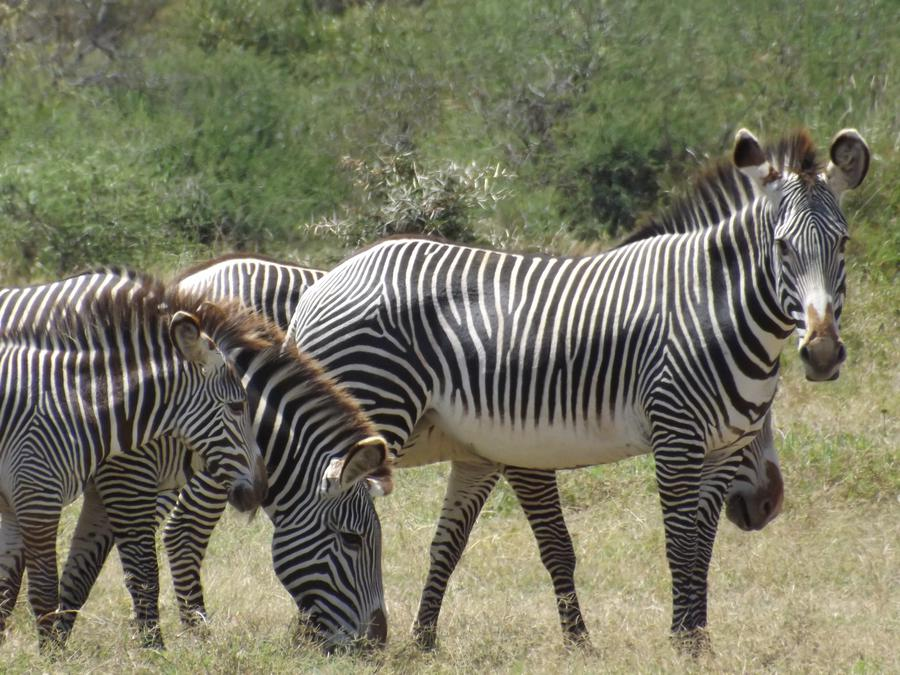zebra_grevys: (300, 237, 727, 441)
